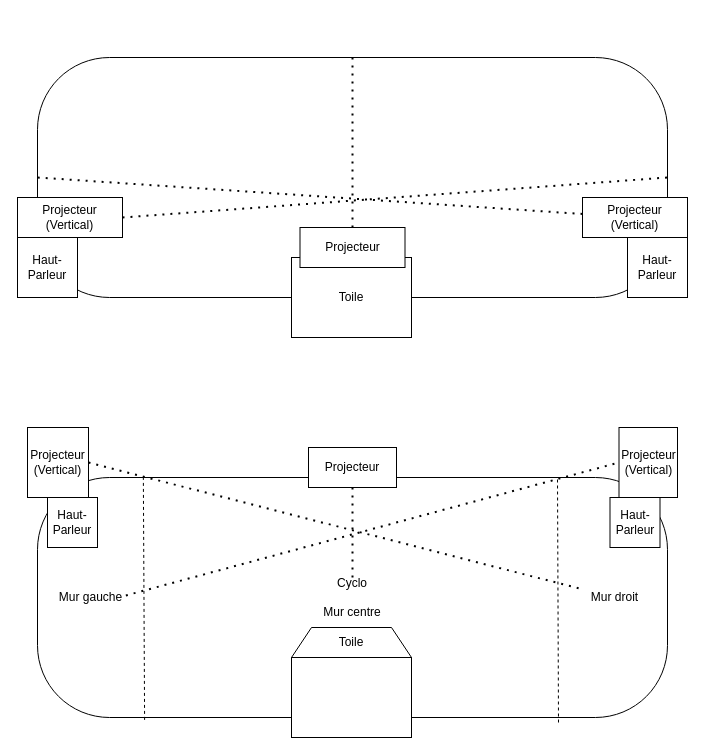
Image size: 705x755. Some labels were removed from this diagram. Each missing label, with the box of its shape:
Cyclo: (36, 56, 668, 298)
Podium: (290, 656, 412, 738)
